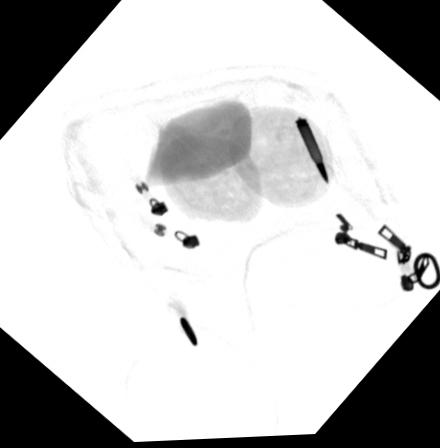Bullet: (292, 119, 329, 190)
